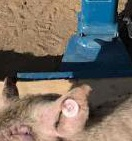text: (56, 92, 85, 123)
